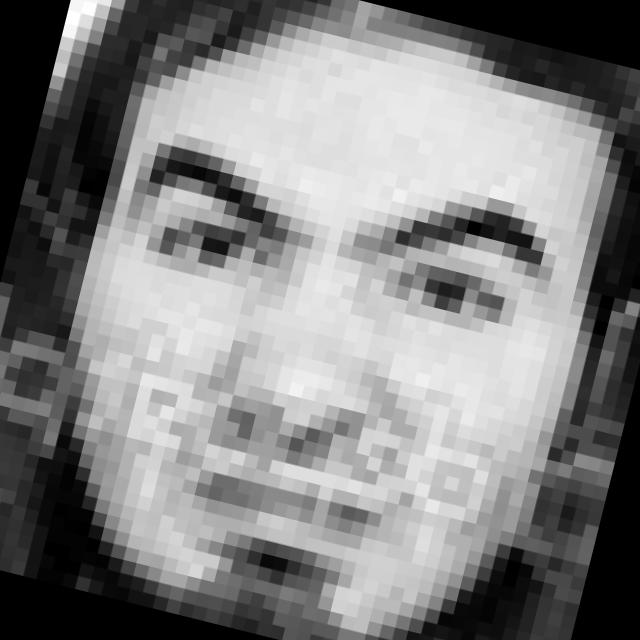disgust: (44, 113, 559, 622)
